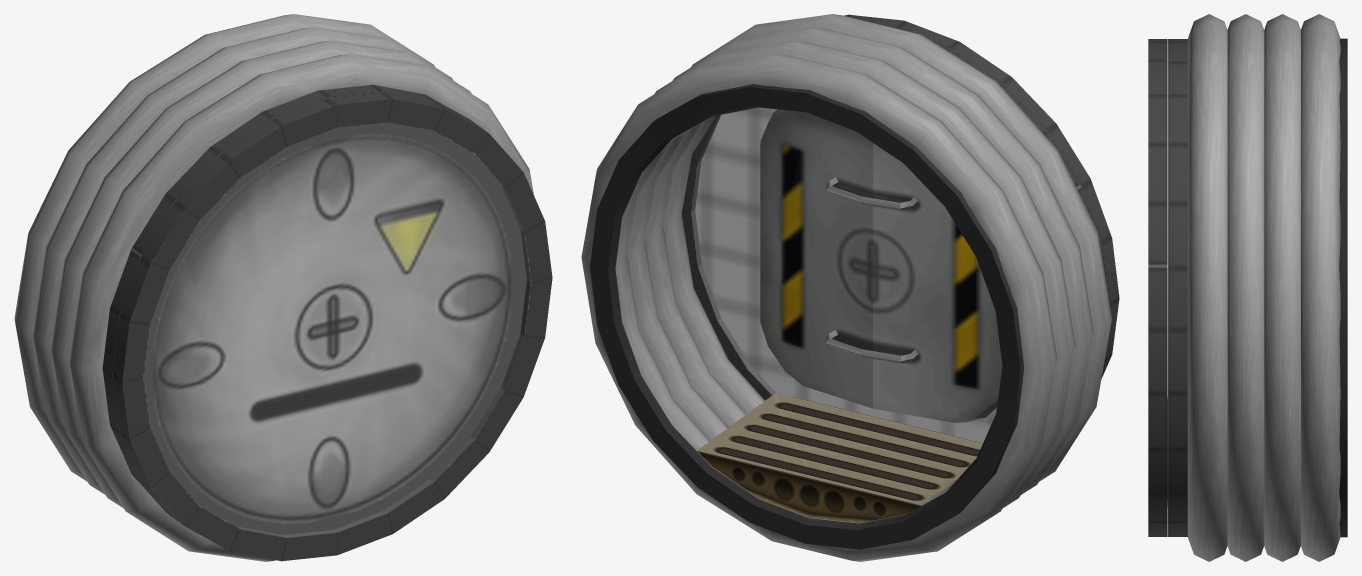
Rendered from Mineshaft.FBX.
The picture shows the model from 3 angles, left to right: view 1: azimuth 30°, elevation 25°; view 2: azimuth 150°, elevation 25°; view 3: azimuth 270°, elevation 25°; orthographic projection.
Visible parts, largest first — view 1: AccessPort002, Torus003, Torus005, Torus004, Torus006, AccessPort003; view 2: Hatch, Torus006, NodePort004, Cylinder013, AccessPort003, Torus005, Torus004, Torus003, AccessPort002, LadderRung060, LadderRung069; view 3: Torus003, Torus006, Torus004, Torus005, AccessPort002, AccessPort003, NodePort004.
Part boxes in pixels (box(x1,y1,x2,y2)): AccessPort002: box(112, 92, 552, 561); Torus003: box(69, 54, 534, 561); Torus005: box(32, 27, 453, 494); Torus004: box(51, 40, 471, 507); Torus006: box(14, 14, 434, 481); AccessPort003: box(102, 84, 478, 518); Hatch: box(760, 109, 1002, 422); Torus006: box(581, 54, 1057, 561); NodePort004: box(590, 84, 1023, 549); Cylinder013: box(697, 393, 982, 523); AccessPort003: box(681, 27, 1108, 442); Torus005: box(627, 40, 1075, 507); Torus004: box(645, 27, 1093, 494); Torus003: box(663, 14, 1111, 481); AccessPort002: box(844, 14, 1119, 378); LadderRung060: box(825, 330, 917, 363); LadderRung069: box(825, 177, 917, 210); Torus003: box(1187, 14, 1227, 561); Torus006: box(1301, 14, 1340, 561); Torus004: box(1227, 14, 1264, 561); Torus005: box(1264, 14, 1300, 561); AccessPort002: box(1148, 39, 1167, 536); AccessPort003: box(1168, 39, 1187, 536); NodePort004: box(1339, 38, 1347, 537).
Size of what is drawn, in the model's own units: 1.1 by 1.08 by 0.399.
